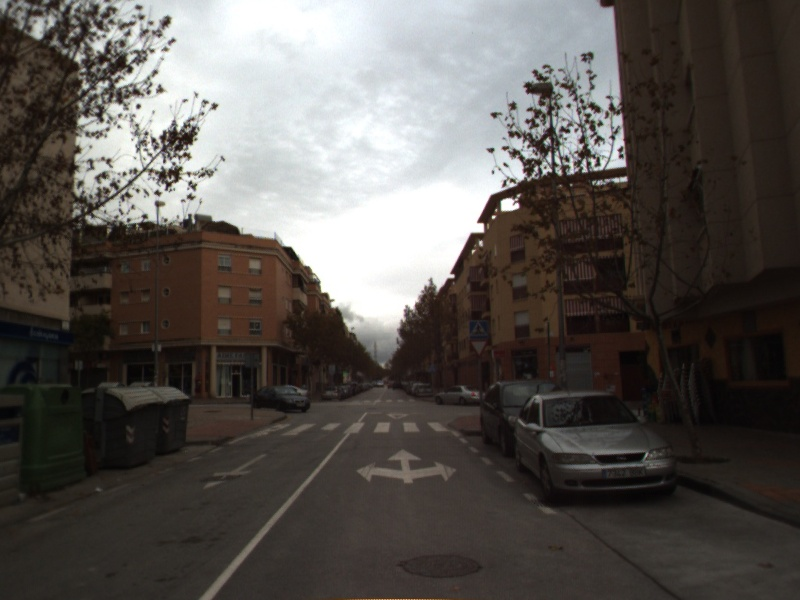STRAIGHT_LEFT_RIGHT: (354, 446, 459, 486)
